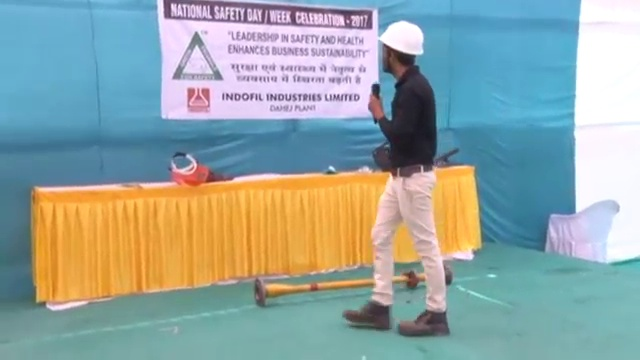helmet: (376, 19, 424, 55)
helmet_on: (375, 19, 425, 74)
person: (344, 13, 449, 340)
